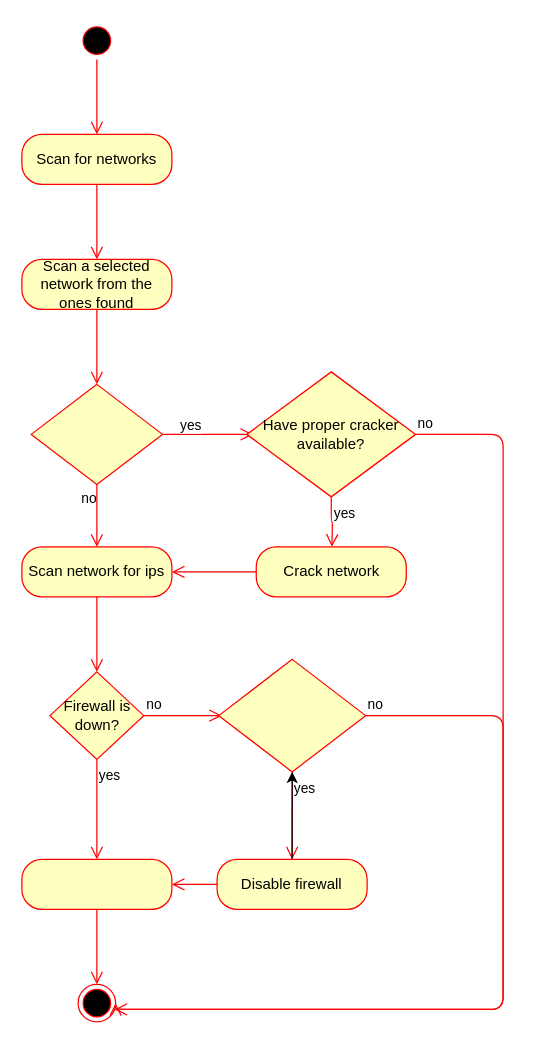
This 538x1044 diagram has some shape labels left out. The shapes that lost their labels are listed below. From the top down, each one's centre as x and y in pixels, then its label:
(x=96, y=433): Network has protection?
(x=292, y=715): Have software for firewall control?
(x=96, y=883): Inject ip with one of the malwares
